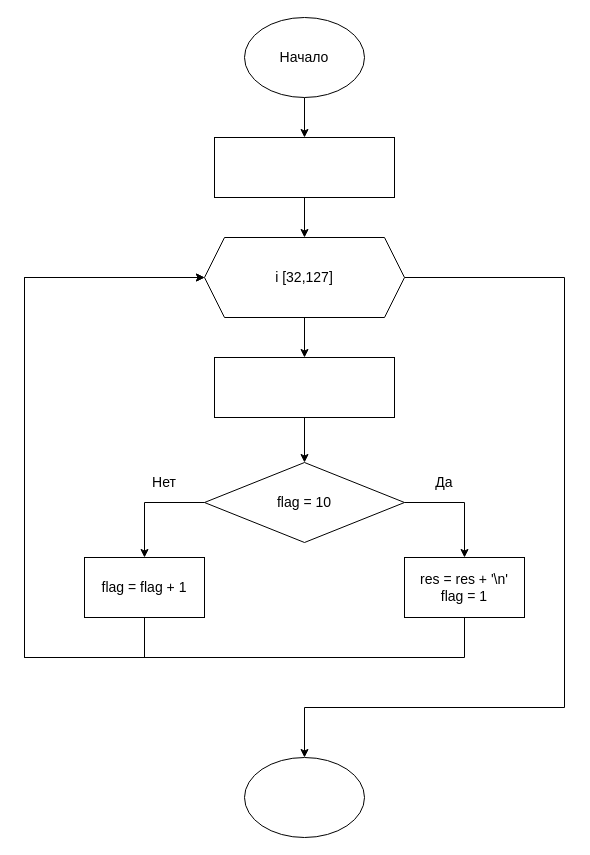
Image size: 590x855. Some labels were removed from this diagram. Each missing label, with the centre of its shape:
"flag = 1 res = ''" goes at pixel 304 167.
"res = res + i + chr(i)" goes at pixel 304 387.
"Конец" goes at pixel 304 797.
